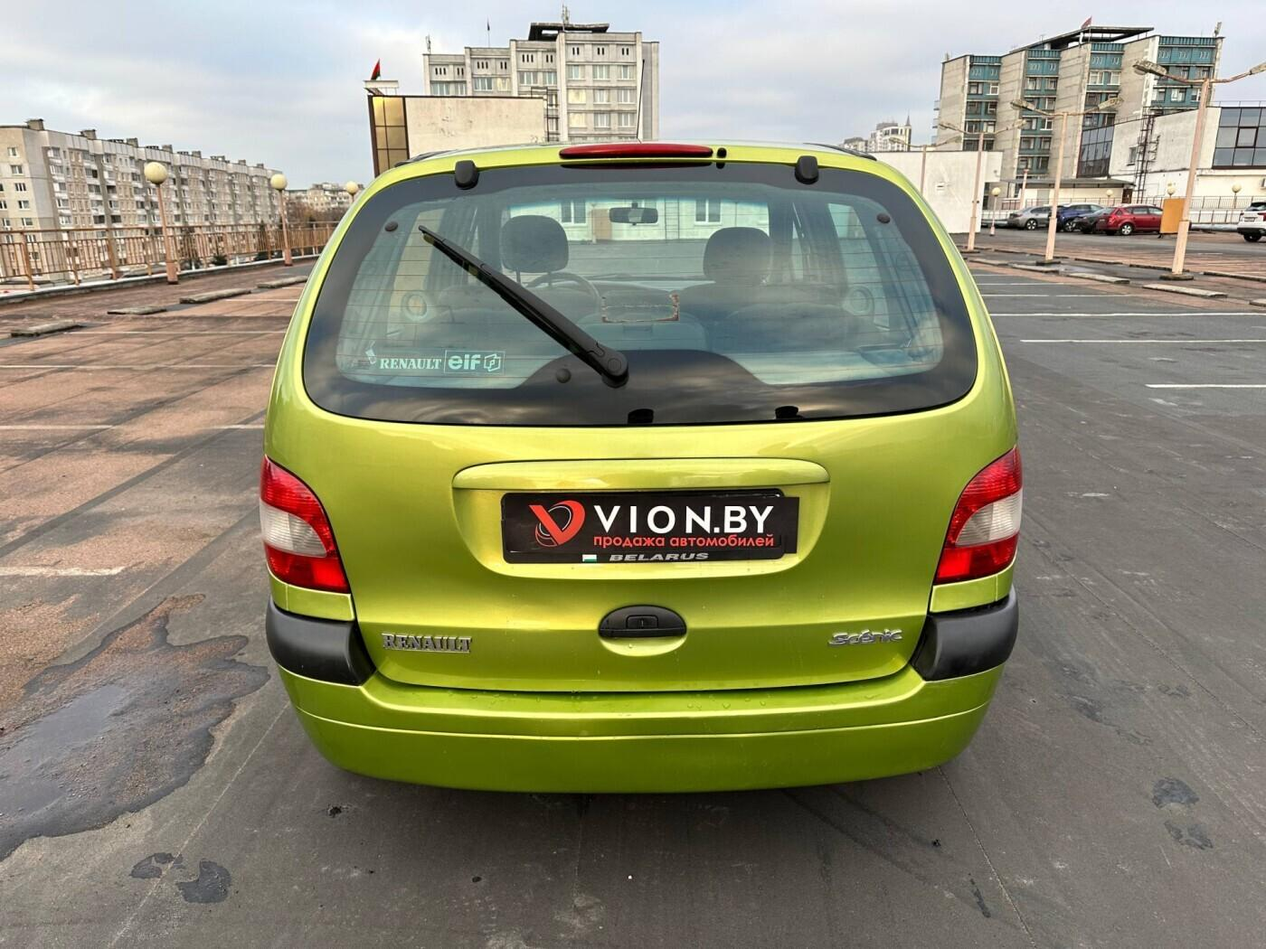Megane_1999-2003: (249, 136, 1023, 807)
